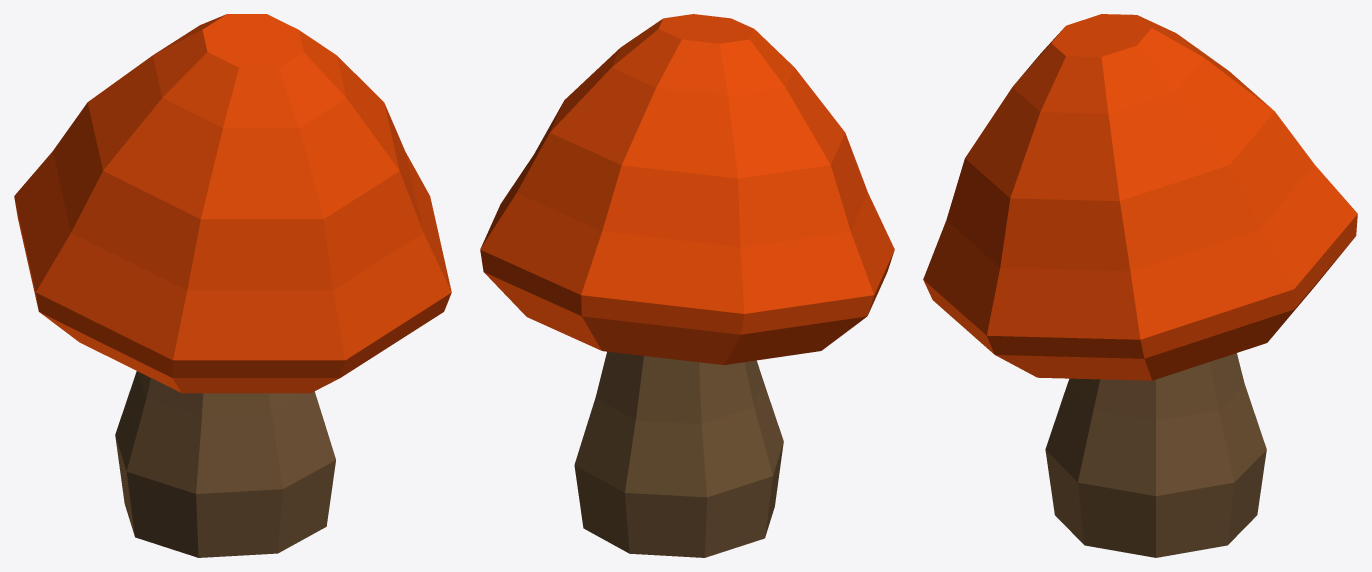
Rendered from CrookedRedMushroom.fbx.
3 renders of one model, left to right at view 1: azimuth 30°, elevation 25°; view 2: azimuth 150°, elevation 25°; view 3: azimuth 270°, elevation 25°, orthographic. The views are drawn at different scales.
Parts seen in each view (by area): view 1: CrookedRedMushroom; view 2: CrookedRedMushroom; view 3: CrookedRedMushroom.
Boxes of the visible parts, x1,y1,x2,y2 form: CrookedRedMushroom: [14, 14, 451, 557]; CrookedRedMushroom: [480, 14, 894, 557]; CrookedRedMushroom: [923, 14, 1357, 557].
Bounding box in the file's own units: 399 × 486 × 393.
